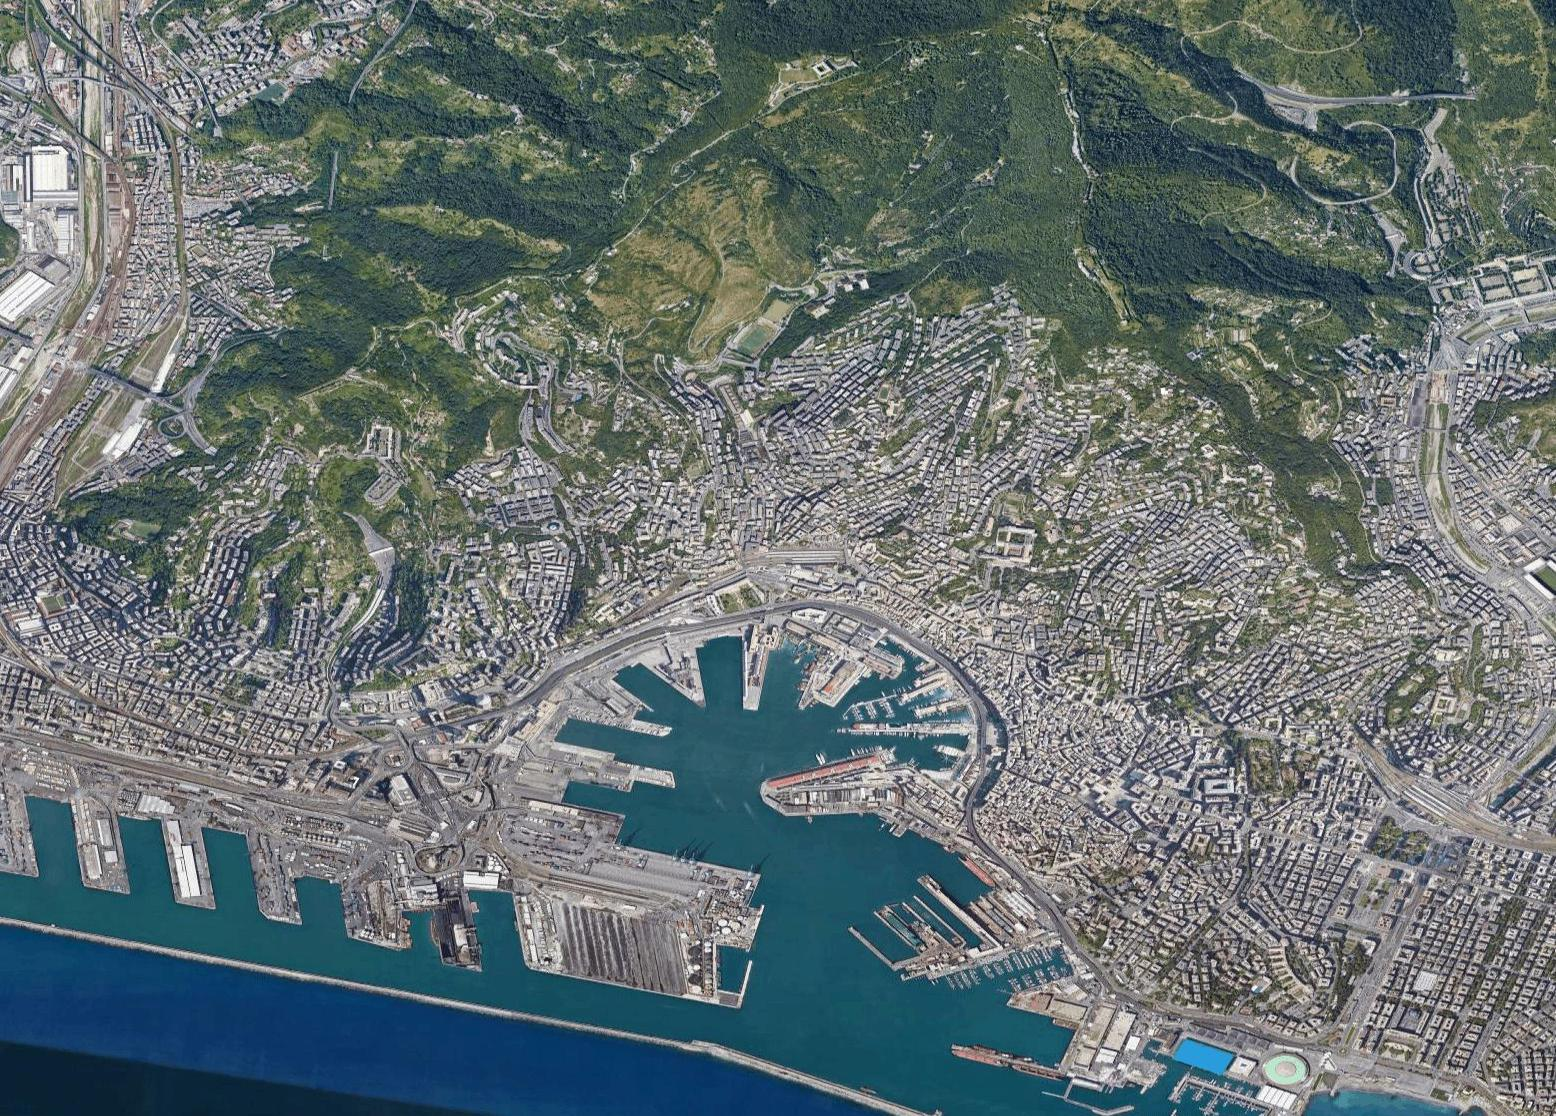harbor: (21, 606, 1333, 1116)
train_station: (754, 544, 852, 572)
